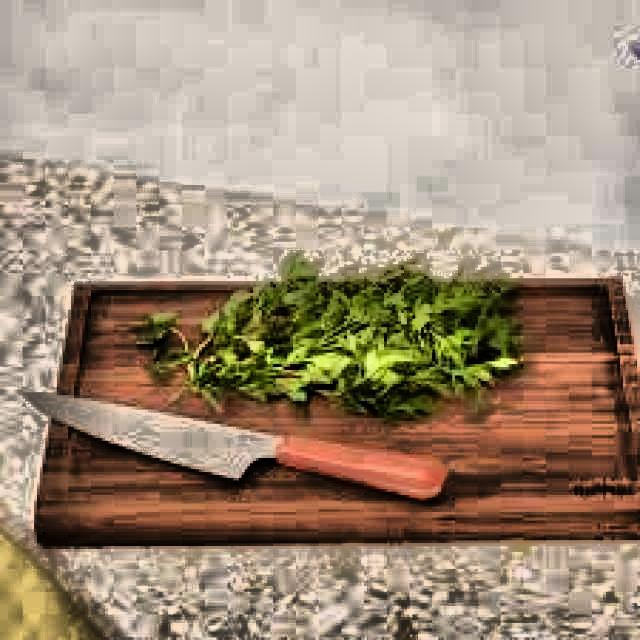knife: (18, 384, 451, 506)
